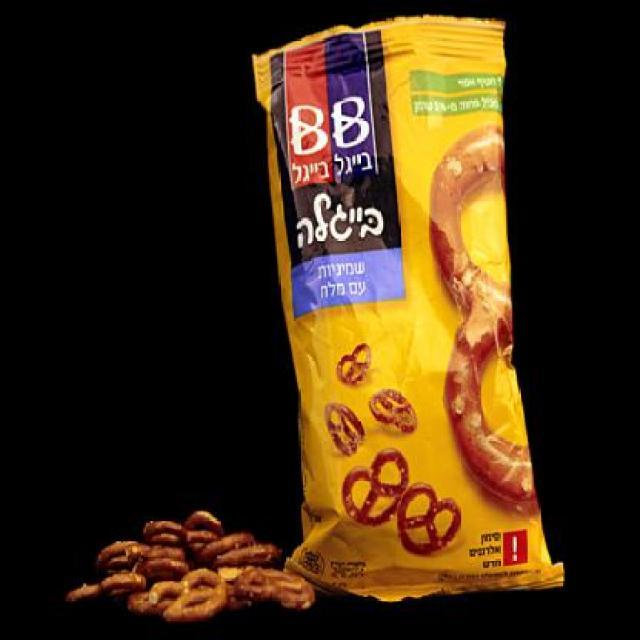Coke: (58, 502, 314, 621)
Salatini: (267, 35, 564, 597)
